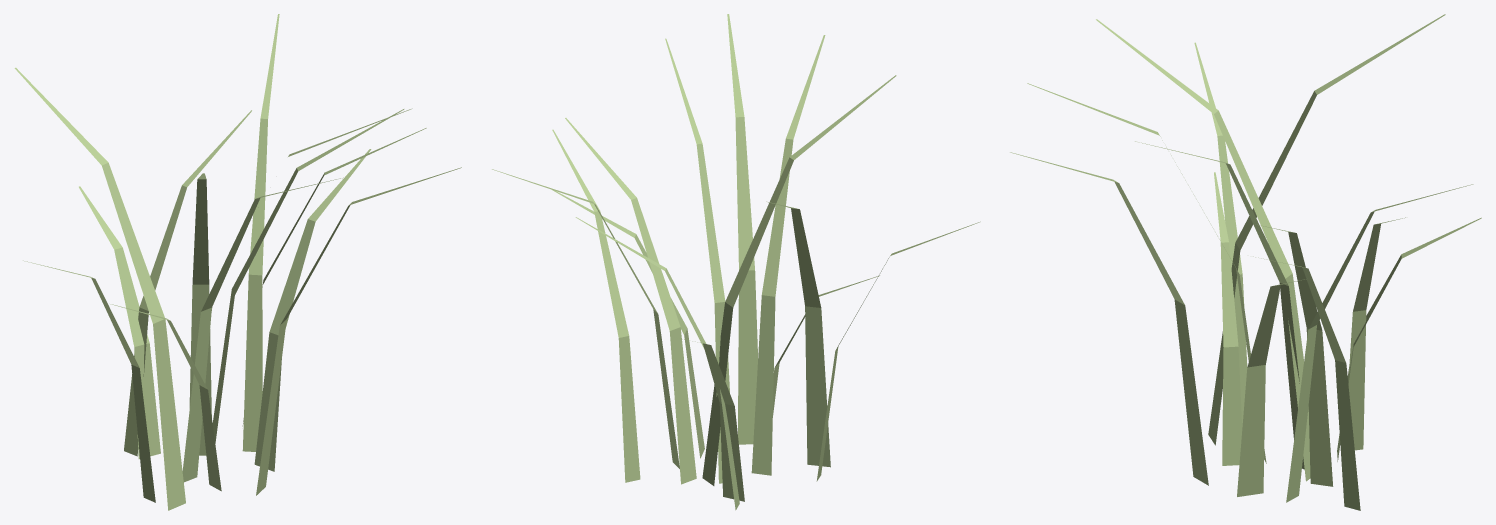
File: grass_tuft_tall.glb
3 views of the same model, side by side, from view 1: azimuth 30°, elevation 25°; view 2: azimuth 150°, elevation 25°; view 3: azimuth 270°, elevation 25° (orthographic). The views are drawn at different scales.
Visible parts, largest first — view 1: grass-tuft-tall; view 2: grass-tuft-tall; view 3: grass-tuft-tall.
Part boxes in pixels (bbox=[...]): grass-tuft-tall: bbox=[14, 14, 461, 510]; grass-tuft-tall: bbox=[492, 14, 980, 510]; grass-tuft-tall: bbox=[1010, 14, 1481, 510].
Bounding box in the file's own units: 1.07 × 0.9092 × 0.9573.
